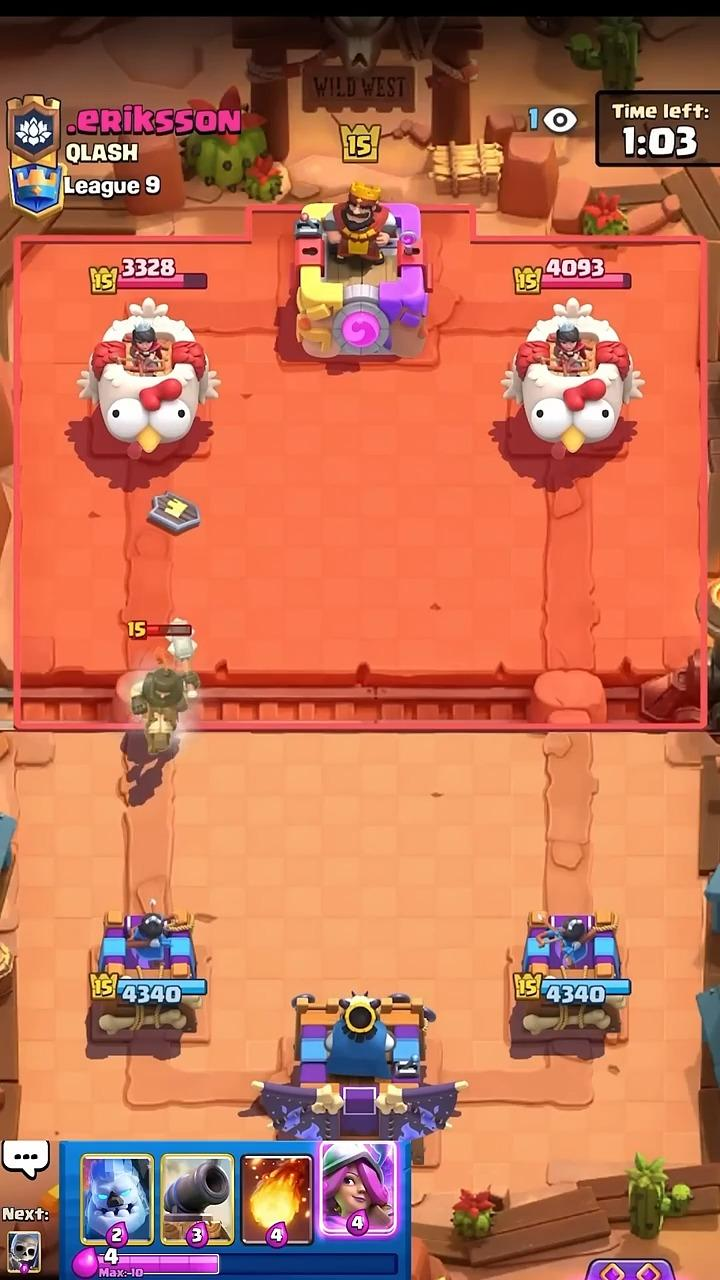dark prince: (131, 623, 199, 755)
